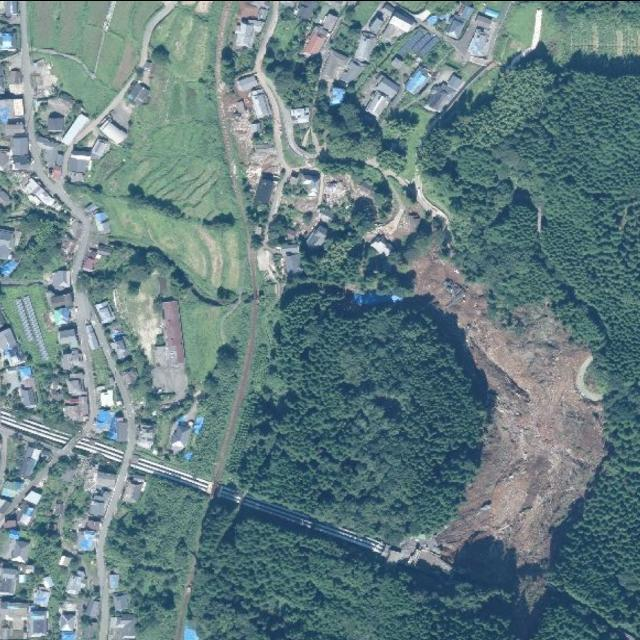landslide: (417, 257, 605, 569)
